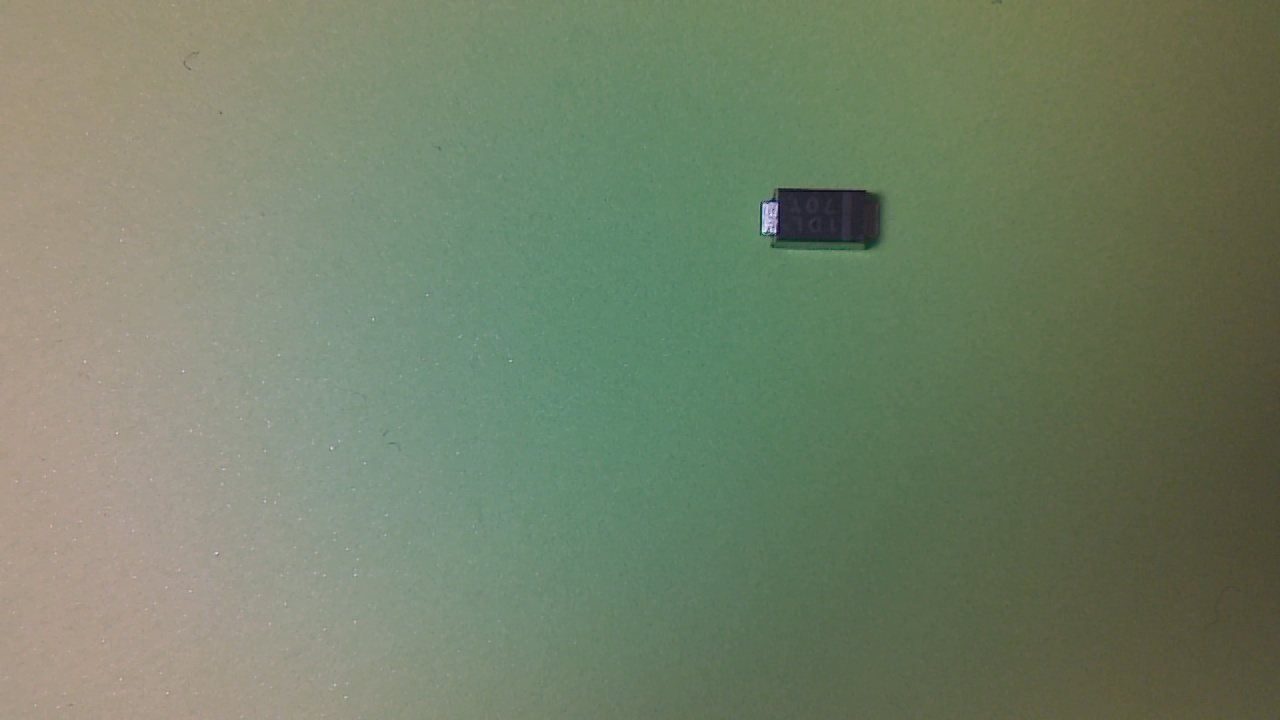Diode: (761, 192, 889, 258)
